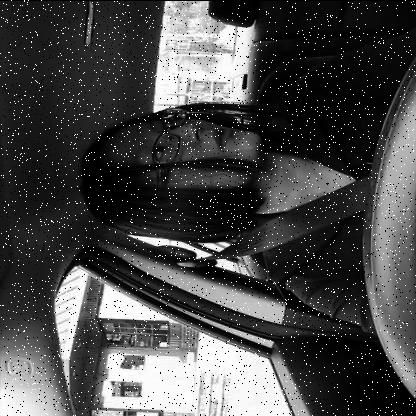seatbelt: (74, 96, 380, 280)
